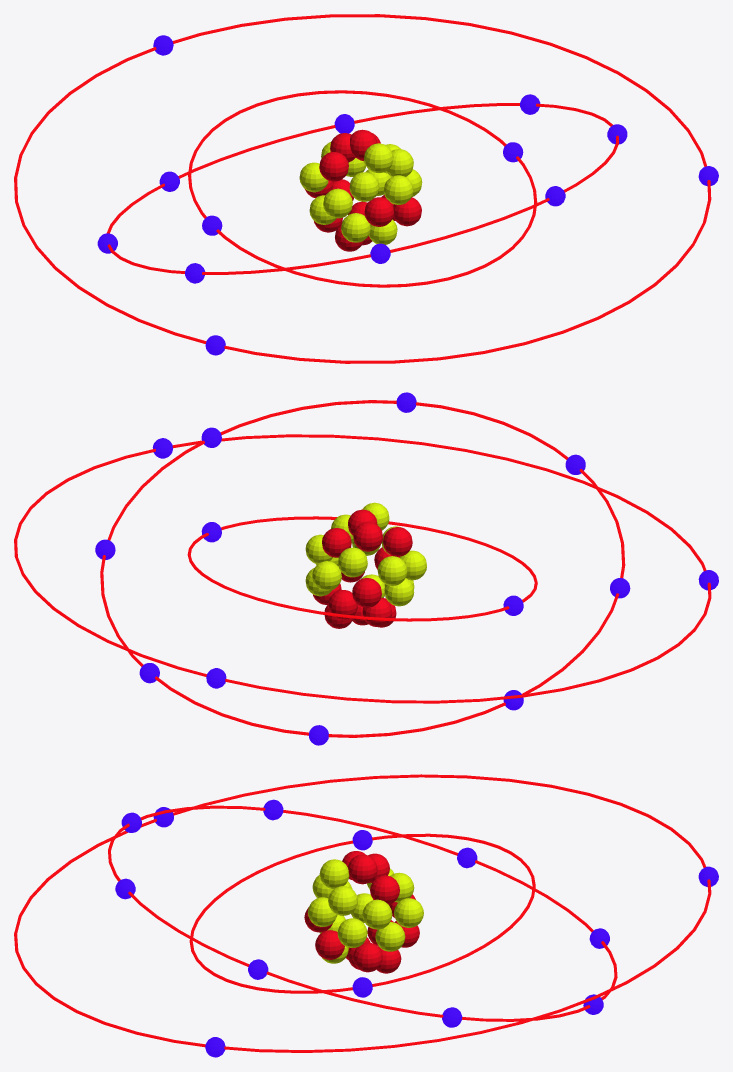
File: aluminio11.glb
The picture shows the model from 3 angles, top to bottom: view 1: azimuth 30°, elevation 25°; view 2: azimuth 150°, elevation 25°; view 3: azimuth 270°, elevation 25°; orthographic projection.
Visible parts, largest first — view 1: Orbita_M, Orbita_L, Orbita_K, Neutron_8, Neutron_13, Neutron_3, Proton_5, Proton_16, Neutron_11, Neutron_21, Neutron_10, Proton_19 (+2 smaller); view 2: Orbita_M, Orbita_L, Orbita_K, Neutron_12, Proton_5, Proton_15, Neutron_10, Proton_2, Neutron_7, Proton_4, Proton_20, Neutron_18 (+1 smaller); view 3: Orbita_M, Orbita_L, Orbita_K, Neutron_9, Neutron_6, Neutron_12, Neutron_14, Proton_1, Proton_22, Neutron_3, Neutron_17, Proton_4 (+2 smaller).
Boxes of the visible parts, bbox=[...] form: Orbita_M: bbox=[14, 14, 711, 363]; Orbita_L: bbox=[107, 103, 618, 274]; Orbita_K: bbox=[188, 90, 537, 287]; Neutron_8: bbox=[349, 172, 379, 201]; Neutron_13: bbox=[323, 188, 352, 218]; Neutron_3: bbox=[364, 143, 393, 173]; Proton_5: bbox=[319, 152, 348, 181]; Proton_16: bbox=[364, 197, 394, 226]; Neutron_11: bbox=[384, 175, 413, 204]; Neutron_21: bbox=[341, 213, 370, 242]; Neutron_10: bbox=[299, 162, 328, 192]; Proton_19: bbox=[393, 197, 421, 226]; Orbita_M: bbox=[14, 434, 711, 703]; Orbita_L: bbox=[100, 400, 625, 737]; Orbita_K: bbox=[187, 516, 537, 621]; Neutron_12: bbox=[312, 561, 341, 590]; Proton_5: bbox=[383, 527, 412, 556]; Proton_15: bbox=[352, 578, 381, 607]; Neutron_10: bbox=[377, 556, 407, 585]; Proton_2: bbox=[353, 522, 382, 551]; Neutron_7: bbox=[338, 547, 367, 577]; Proton_4: bbox=[322, 528, 351, 557]; Proton_20: bbox=[328, 590, 358, 619]; Neutron_18: bbox=[384, 578, 414, 606]; Orbita_M: bbox=[14, 774, 711, 1052]; Orbita_L: bbox=[108, 805, 617, 1021]; Orbita_K: bbox=[189, 833, 535, 993]; Neutron_9: bbox=[362, 899, 392, 929]; Neutron_6: bbox=[328, 886, 357, 915]; Neutron_12: bbox=[394, 898, 423, 927]; Neutron_14: bbox=[337, 918, 367, 947]; Proton_1: bbox=[348, 854, 377, 884]; Proton_22: bbox=[353, 942, 382, 972]; Neutron_3: bbox=[319, 859, 349, 888]; Neutron_17: bbox=[375, 922, 405, 951]; Proton_4: bbox=[370, 875, 399, 904].
Size of the model in its own units: 8.83 by 1.97 by 8.9.
